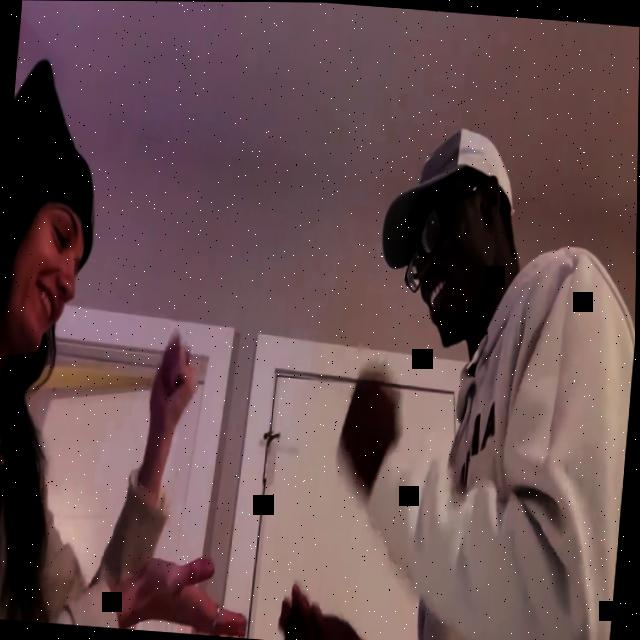Rock: (335, 364, 400, 487), (147, 332, 204, 436)
